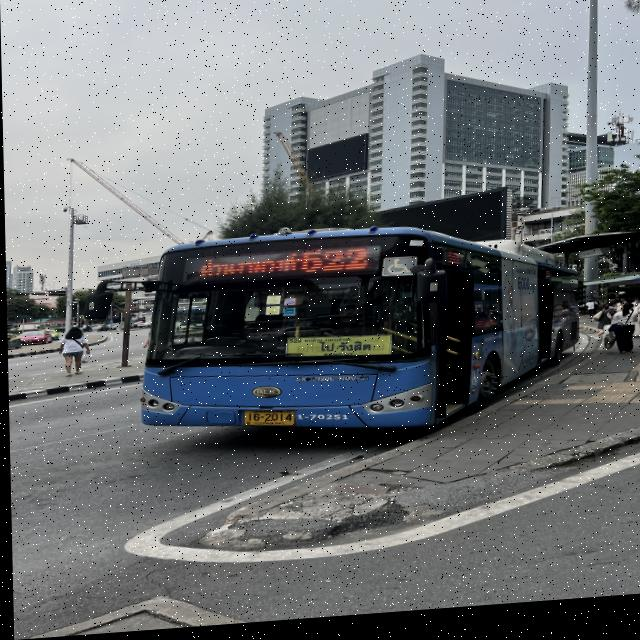BMTA-bus: (135, 221, 577, 453)
Bus-Line-Number: (297, 248, 378, 279)
Destination-Sign-Normal-Expressway: (283, 335, 392, 368)
